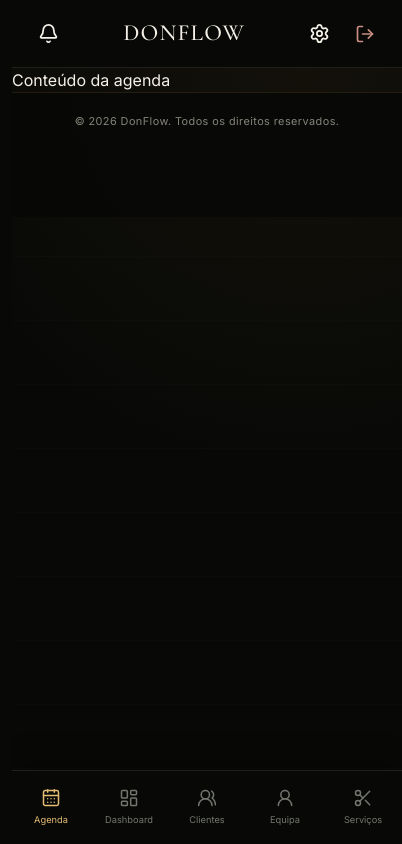
Test: StaffLayout › opens the notifications panel from the mobile header
This screenshot has width=402, height=844.
Click the button named "Notificações" at (49, 34), box [28,13,70,54]
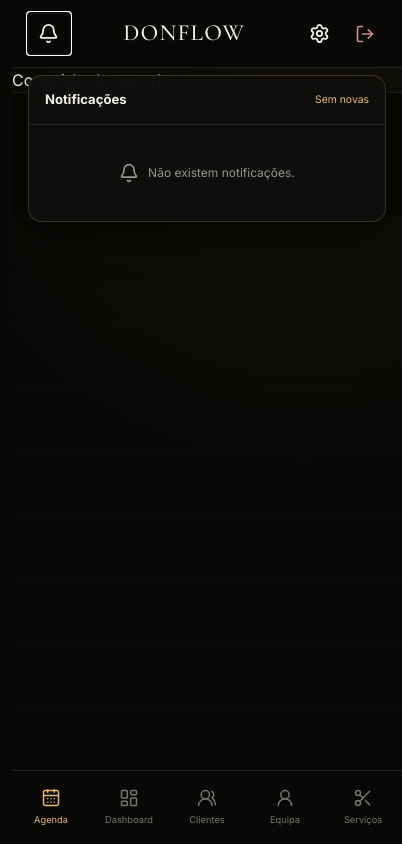
expect the element with id "mobile-staff-notifications" is shown: met, box [28,75,386,222]
expect the text "Não existem notificações." is shown: met, box [148,164,295,182]
